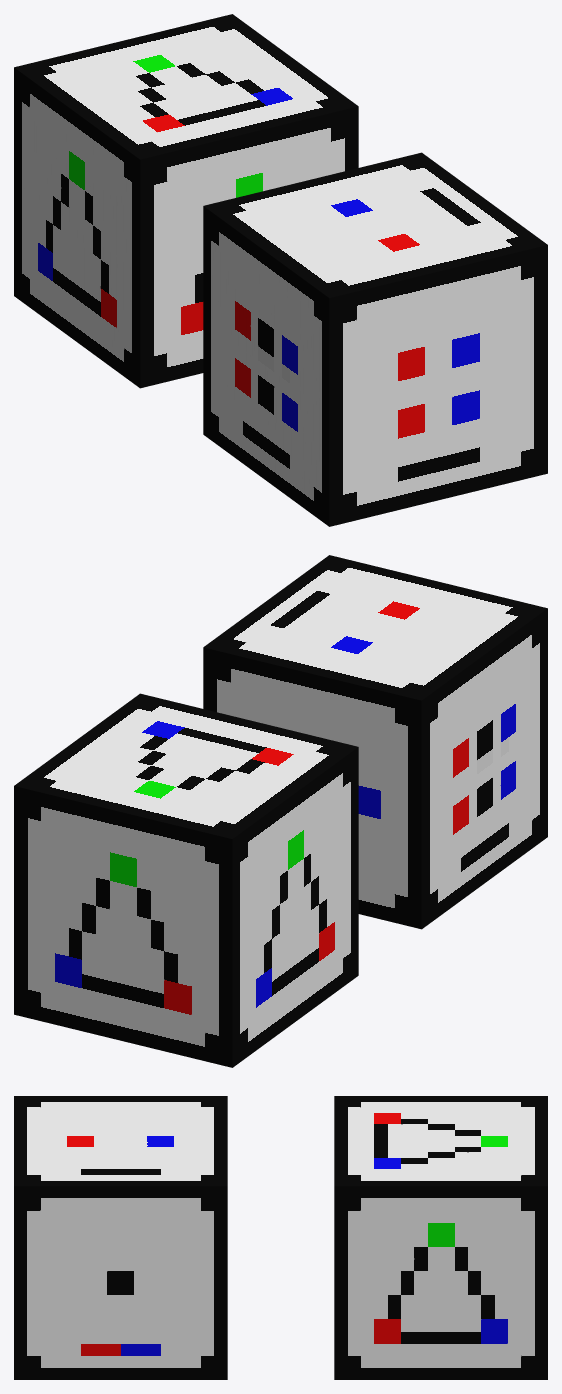
Rendered from sample_2.obj.
3 views of the same model, one above another, from view 1: azimuth 30°, elevation 25°; view 2: azimuth 150°, elevation 25°; view 3: azimuth 270°, elevation 25° (orthographic). The views are drawn at different scales.
Visible parts, largest first — view 1: Dice, Box; view 2: Box, Dice; view 3: Box, Dice.
Part boxes in pixels (bbox=[...]): Dice: bbox=[203, 152, 547, 526]; Box: bbox=[14, 14, 358, 388]; Box: bbox=[14, 693, 358, 1067]; Dice: bbox=[203, 555, 547, 929]; Box: bbox=[334, 1096, 547, 1379]; Dice: bbox=[14, 1096, 227, 1379].
Bounding box in the file's own units: 2 × 2 × 5.
